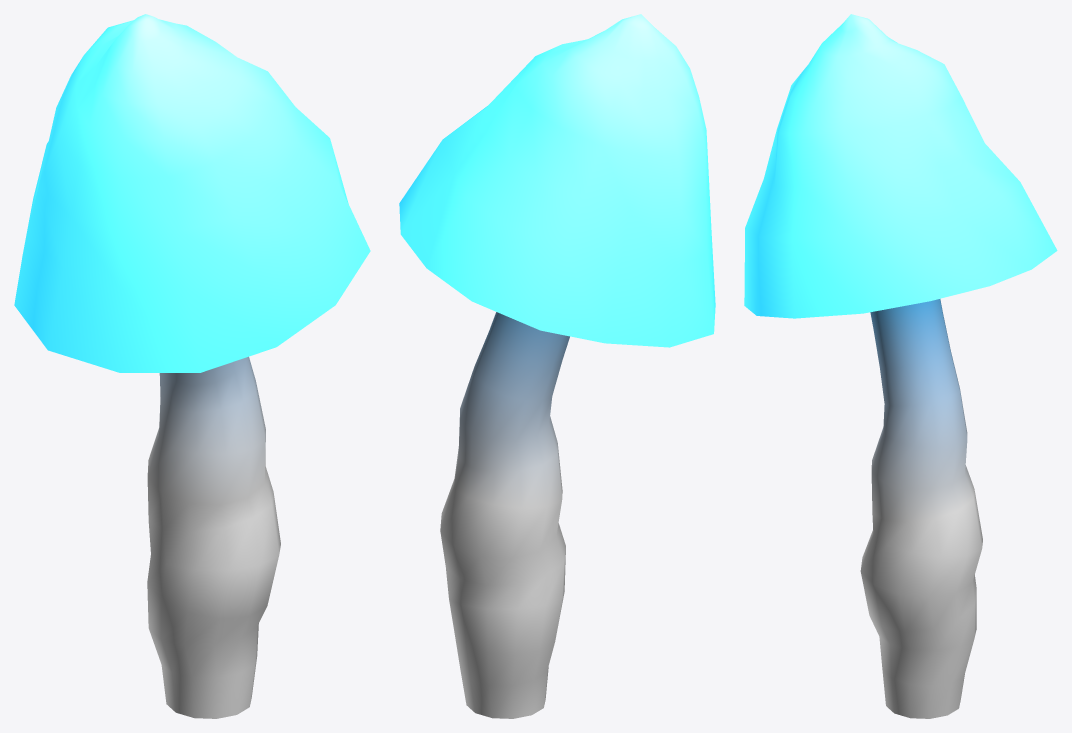
The model's file is mushroom_2.glb.
3 renders of one model, left to right at view 1: azimuth 30°, elevation 25°; view 2: azimuth 150°, elevation 25°; view 3: azimuth 270°, elevation 25°, orthographic. The views are drawn at different scales.
Visible parts, largest first — view 1: geo1; view 2: geo1; view 3: geo1.
Part boxes in pixels (x1,y1,x2,y2): geo1: (14, 14, 370, 718); geo1: (399, 14, 715, 718); geo1: (744, 14, 1057, 718).
Bounding box in the file's own units: 0.1819 × 0.4218 × 0.1857.
